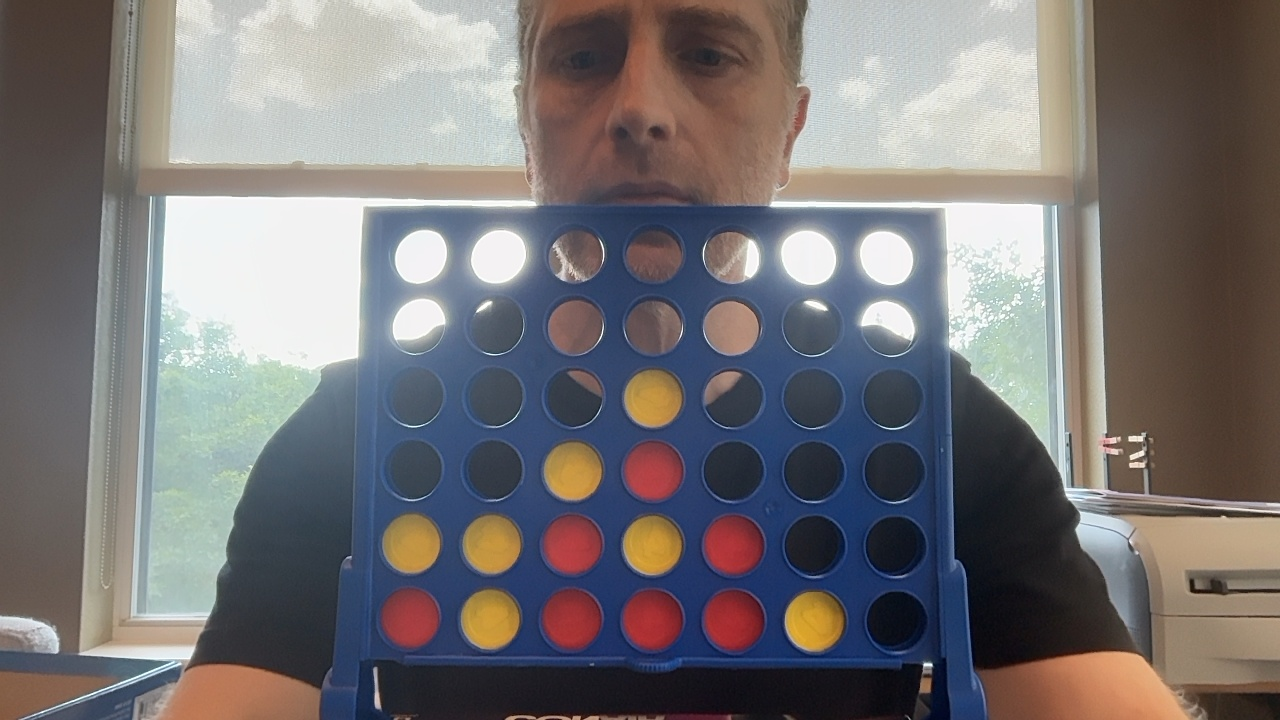red piece: (541, 588, 602, 651), (703, 590, 764, 653), (622, 589, 683, 651), (703, 515, 764, 576), (542, 514, 602, 575), (623, 441, 683, 501), (380, 588, 439, 649)
yellow piece: (784, 591, 846, 652), (622, 515, 683, 576), (460, 589, 520, 650), (543, 441, 603, 501), (623, 368, 683, 428), (462, 514, 521, 575), (382, 514, 441, 574)
